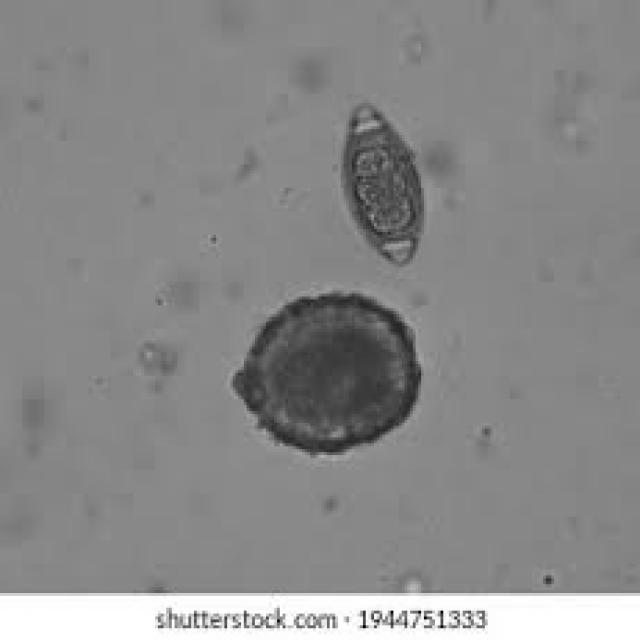Ascaris Lumbricoides: (222, 290, 432, 467)
Trichuris Trichiura: (335, 95, 432, 278)
